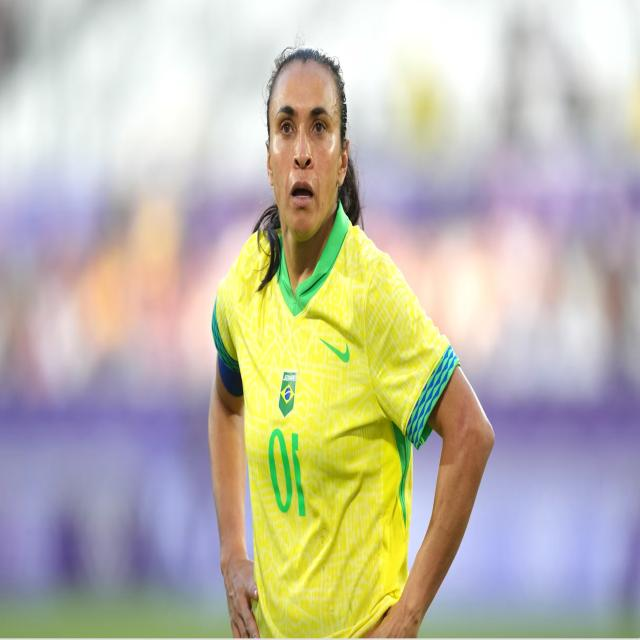nike: (317, 328, 353, 370)
